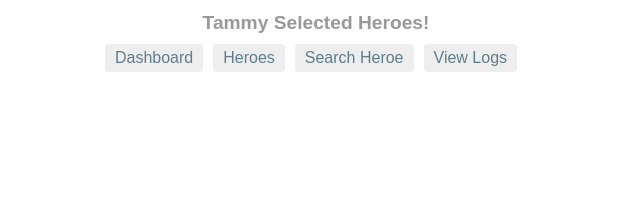
Testing Logs funcionality › Navigate to Logs
Click the link to "/logs": point(471, 58) [424,44,518,72]
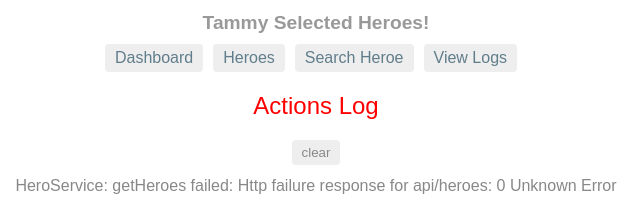
Now the heading "Actions Log" is shown, box [253,92,379,119]
Now the button with class "clear" is enabled, box [292,140,341,165]
Now the button with class "clear" is shown, box [292,140,340,165]
